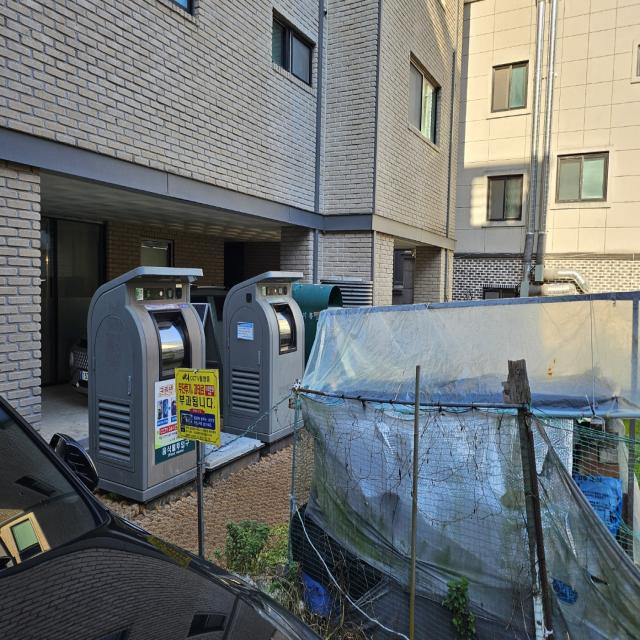CleanNet: (84, 262, 210, 496), (224, 266, 308, 437)
